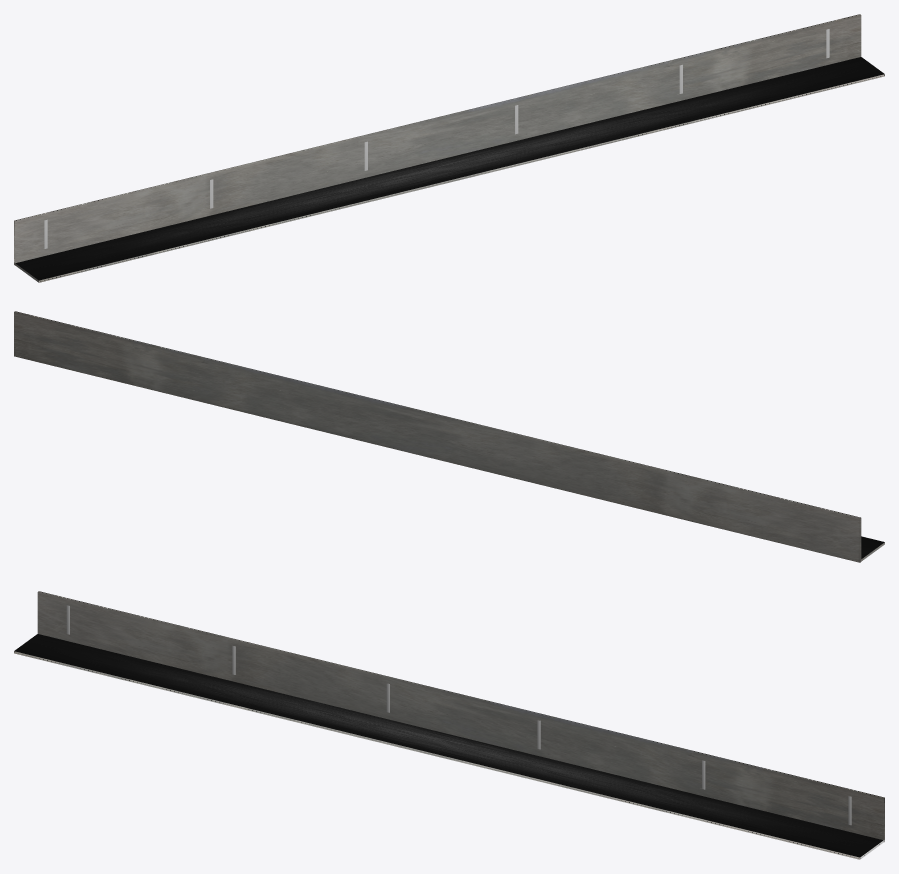
File: passarela1.fbx
3 renders of one model, top to bottom at view 1: azimuth 30°, elevation 25°; view 2: azimuth 150°, elevation 25°; view 3: azimuth 330°, elevation 25°, orthographic.
Visible parts, largest first — view 1: Cube_001, Cube; view 2: Cube_001; view 3: Cube_001, Cube.
Part boxes in pixels (x1,y1,x2,y2): Cube_001: [14, 14, 861, 264]; Cube: [14, 57, 884, 282]; Cube_001: [14, 311, 861, 562]; Cube_001: [37, 591, 884, 841]; Cube: [14, 634, 884, 859].
Bounding box in the file's own units: 40 × 2 × 2.04.
